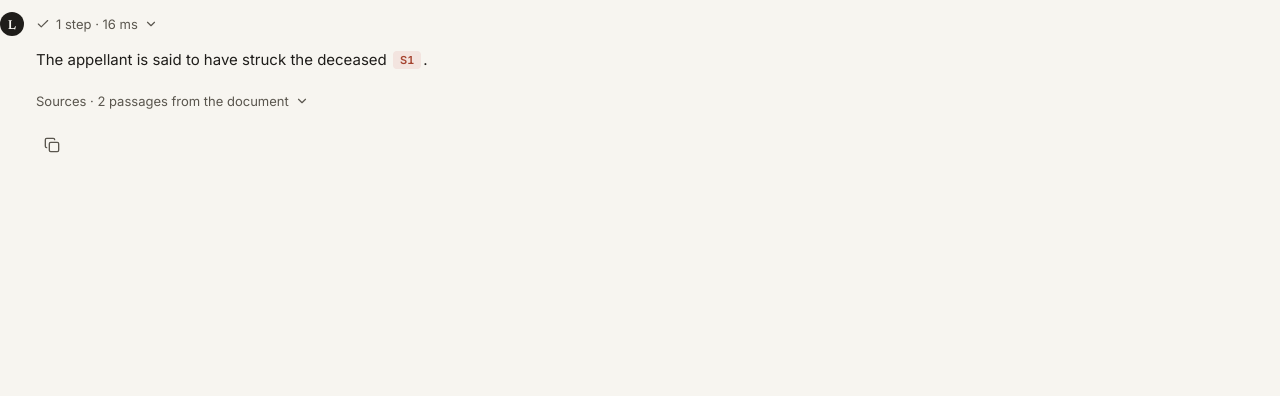
Test: AssistantMessage ordering › puts the answer above the passages, which are collapsed behind a Sources row
Expected: the text "The appellant is said to have struck the deceased S1 ." is shown, [36,50,428,69]
Expected: the text "The weapon was recovered." is not shown
Step 1. Click the button "Sources · 2 passages from the document" → (172, 101), box [36,85,309,117]
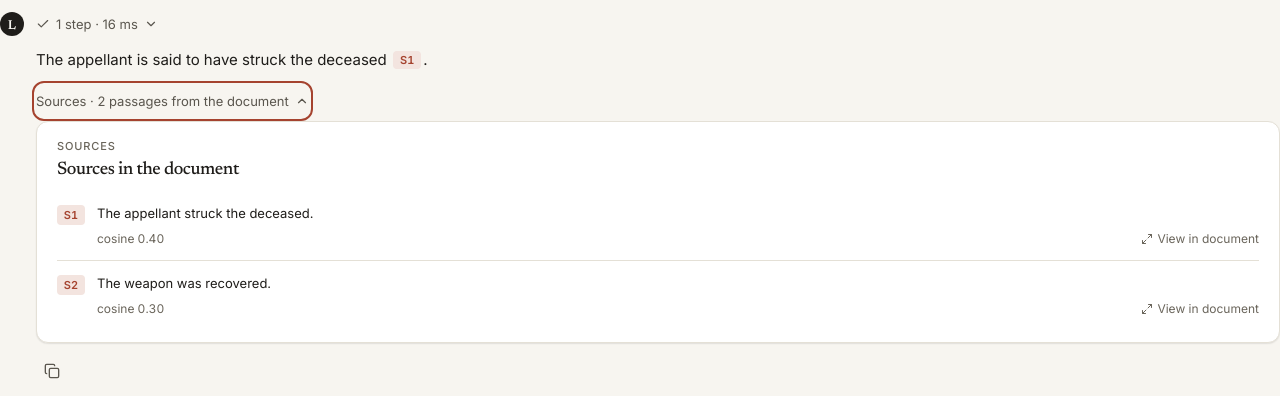
Expected: the text "The weapon was recovered." is shown, [97,275,271,291]
